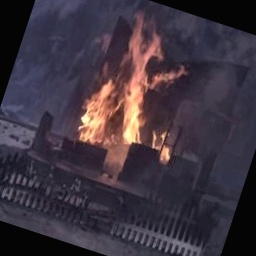fire: (55, 0, 220, 179)
